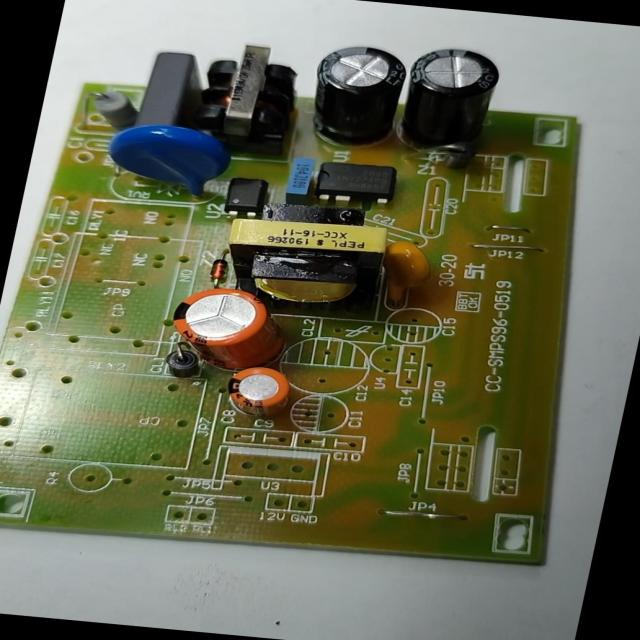Cap1: (157, 281, 311, 377)
Cap2: (215, 360, 300, 428)
Cap3: (294, 35, 418, 158)
Cap4: (392, 40, 509, 164)
MOSFET: (310, 156, 400, 207)
Mov: (96, 117, 238, 205)
Resistor: (77, 85, 145, 133)
Transformer: (212, 211, 404, 318), (184, 32, 312, 159)
